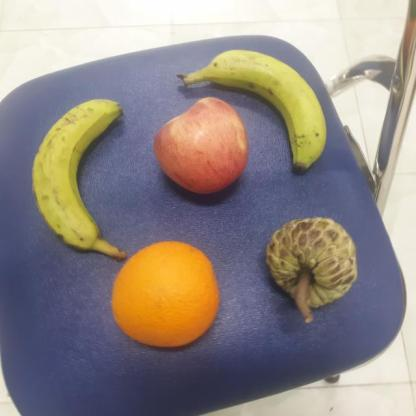annona: (261, 216, 365, 320)
apple: (154, 95, 252, 201)
banana: (210, 40, 332, 174), (29, 92, 126, 260)
orange: (107, 240, 235, 350)
